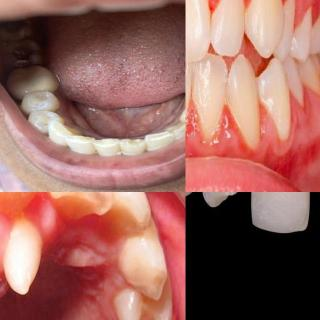Gum Swelling: (186, 114, 284, 162)
calculus: (58, 125, 88, 138), (47, 94, 65, 115), (51, 112, 74, 126), (174, 110, 186, 124)
maligned: (0, 215, 52, 297)
